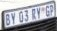character: (29, 8, 37, 20), (17, 10, 24, 22), (5, 13, 11, 25), (10, 12, 16, 24), (44, 5, 50, 17), (48, 4, 54, 16), (23, 9, 28, 22), (36, 7, 41, 19)
